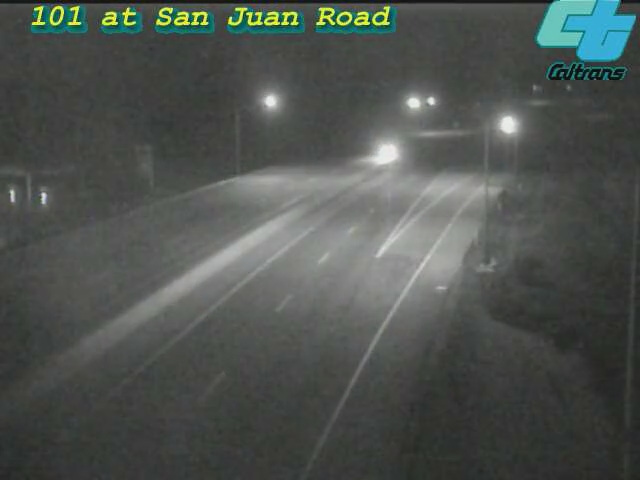vehicle: (362, 128, 412, 178), (483, 100, 533, 150)
